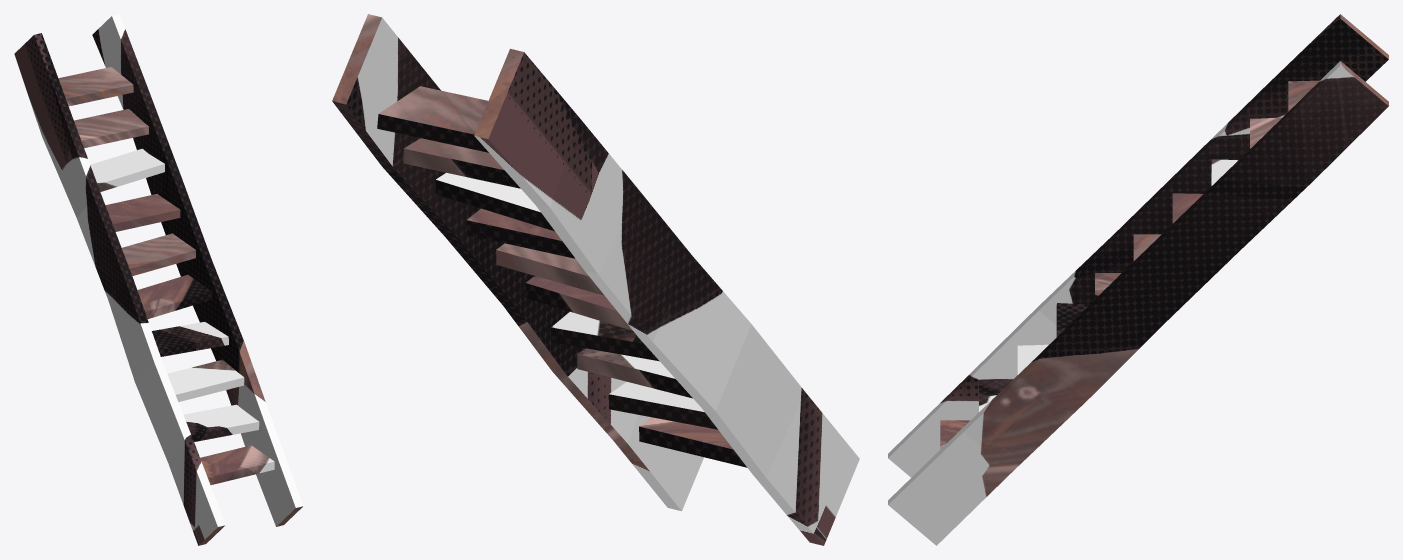
The model's file is Stairway_front.obj.
3 views of the same model, side by side, from view 1: azimuth 30°, elevation 25°; view 2: azimuth 150°, elevation 25°; view 3: azimuth 270°, elevation 25° (orthographic). The views are drawn at different scales.
Visible parts, largest first — view 1: Stair_Wood_Front.001; view 2: Stair_Wood_Front.001; view 3: Stair_Wood_Front.001.
Part boxes in pixels (<box>): Stair_Wood_Front.001: <box>14,14,303,545</box>; Stair_Wood_Front.001: <box>332,14,859,545</box>; Stair_Wood_Front.001: <box>888,14,1388,545</box>.
Bounding box in the file's own units: 1.18 × 4.8 × 4.53.
